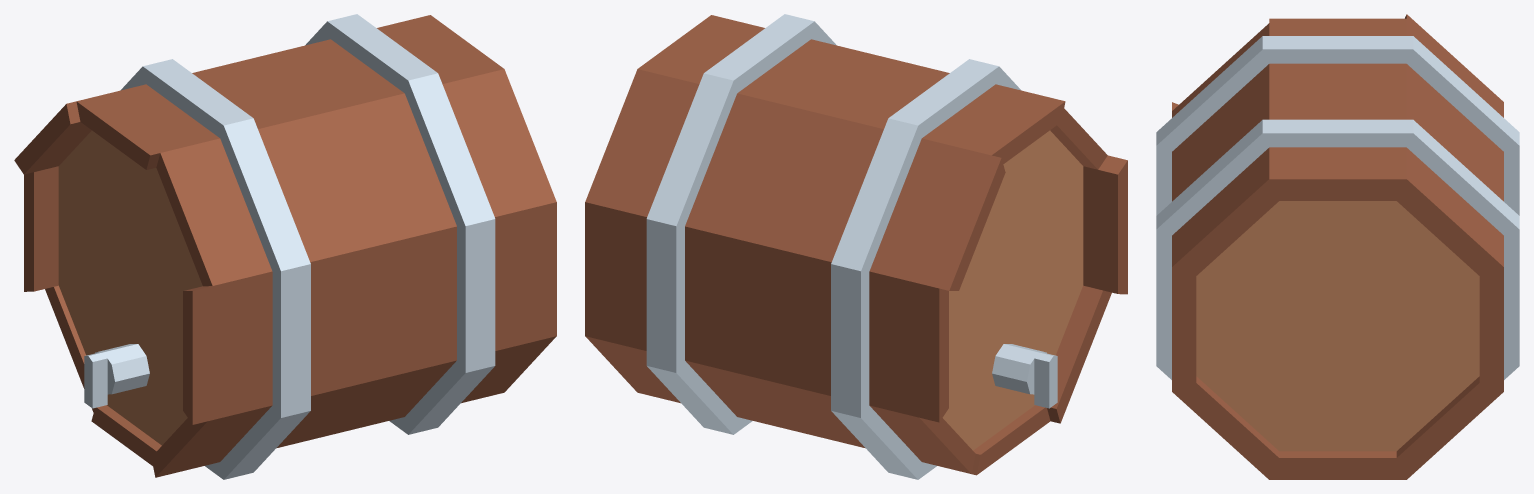
The model's file is barrel.obj.
3 views of the same model, side by side, from view 1: azimuth 30°, elevation 25°; view 2: azimuth 150°, elevation 25°; view 3: azimuth 270°, elevation 25° (orthographic). The views are drawn at different scales.
Visible parts, largest first — view 1: barrel; view 2: barrel; view 3: barrel.
Part boxes in pixels (left/top/right/bottom): barrel: left=14, top=14, right=556, bottom=479; barrel: left=585, top=14, right=1127, bottom=479; barrel: left=1156, top=14, right=1519, bottom=479.
Size of the model in its own units: 0.76 by 0.6789 by 0.6789.
